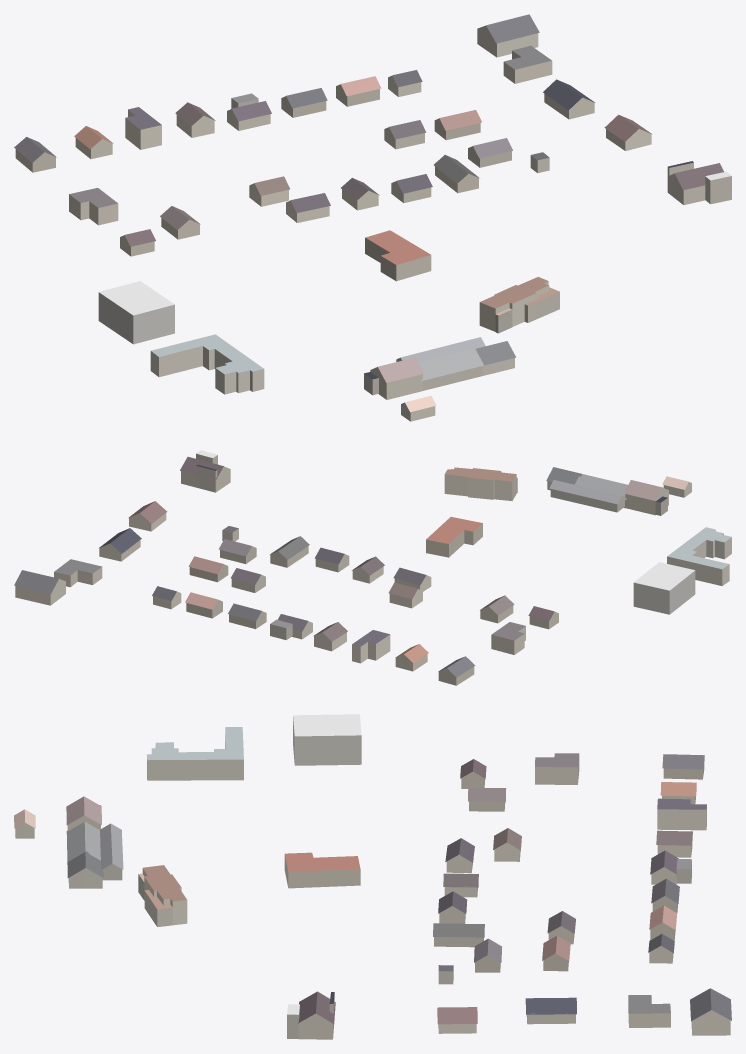
3 renders of one model, top to bottom at view 1: azimuth 30°, elevation 25°; view 2: azimuth 150°, elevation 25°; view 3: azimuth 270°, elevation 25°, orthographic. The views are drawn at different scales.
Parts seen in each view (by area): view 1: tuile; view 2: tuile; view 3: tuile.
Boxes of the visible parts, bbox=[...] form: tuile: bbox=[14, 14, 731, 421]; tuile: bbox=[14, 450, 731, 685]; tuile: bbox=[14, 714, 731, 1039].
Size of the model in its own units: 213 by 16.54 by 214.
